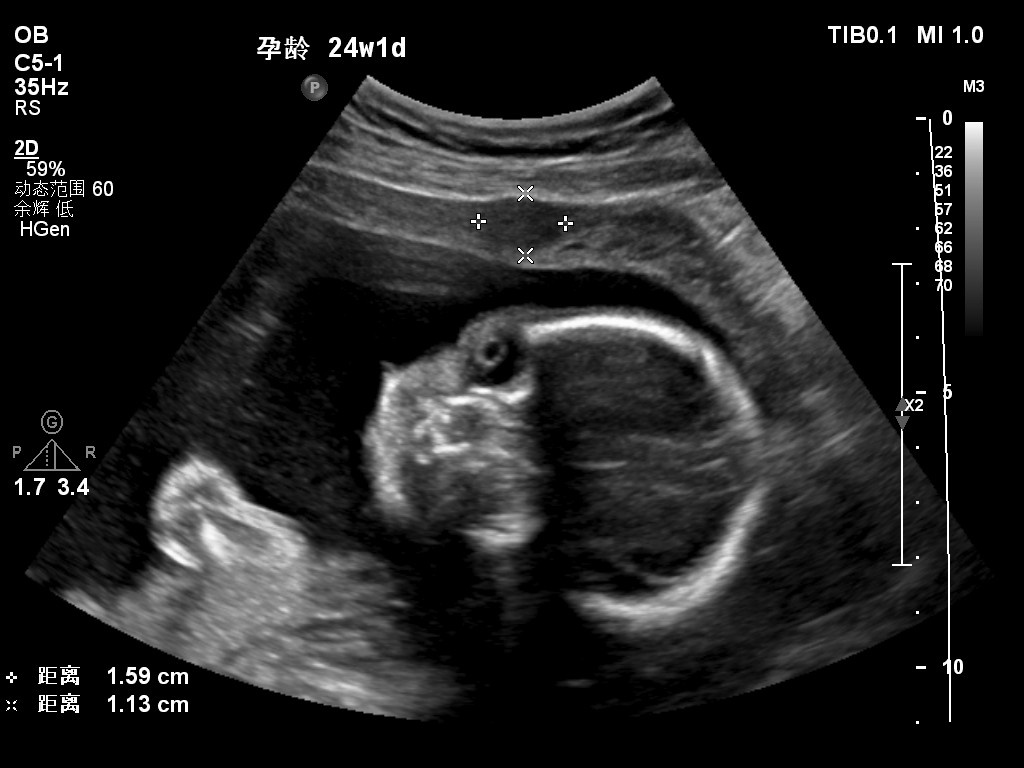肌瘤: (486, 202, 564, 246)
